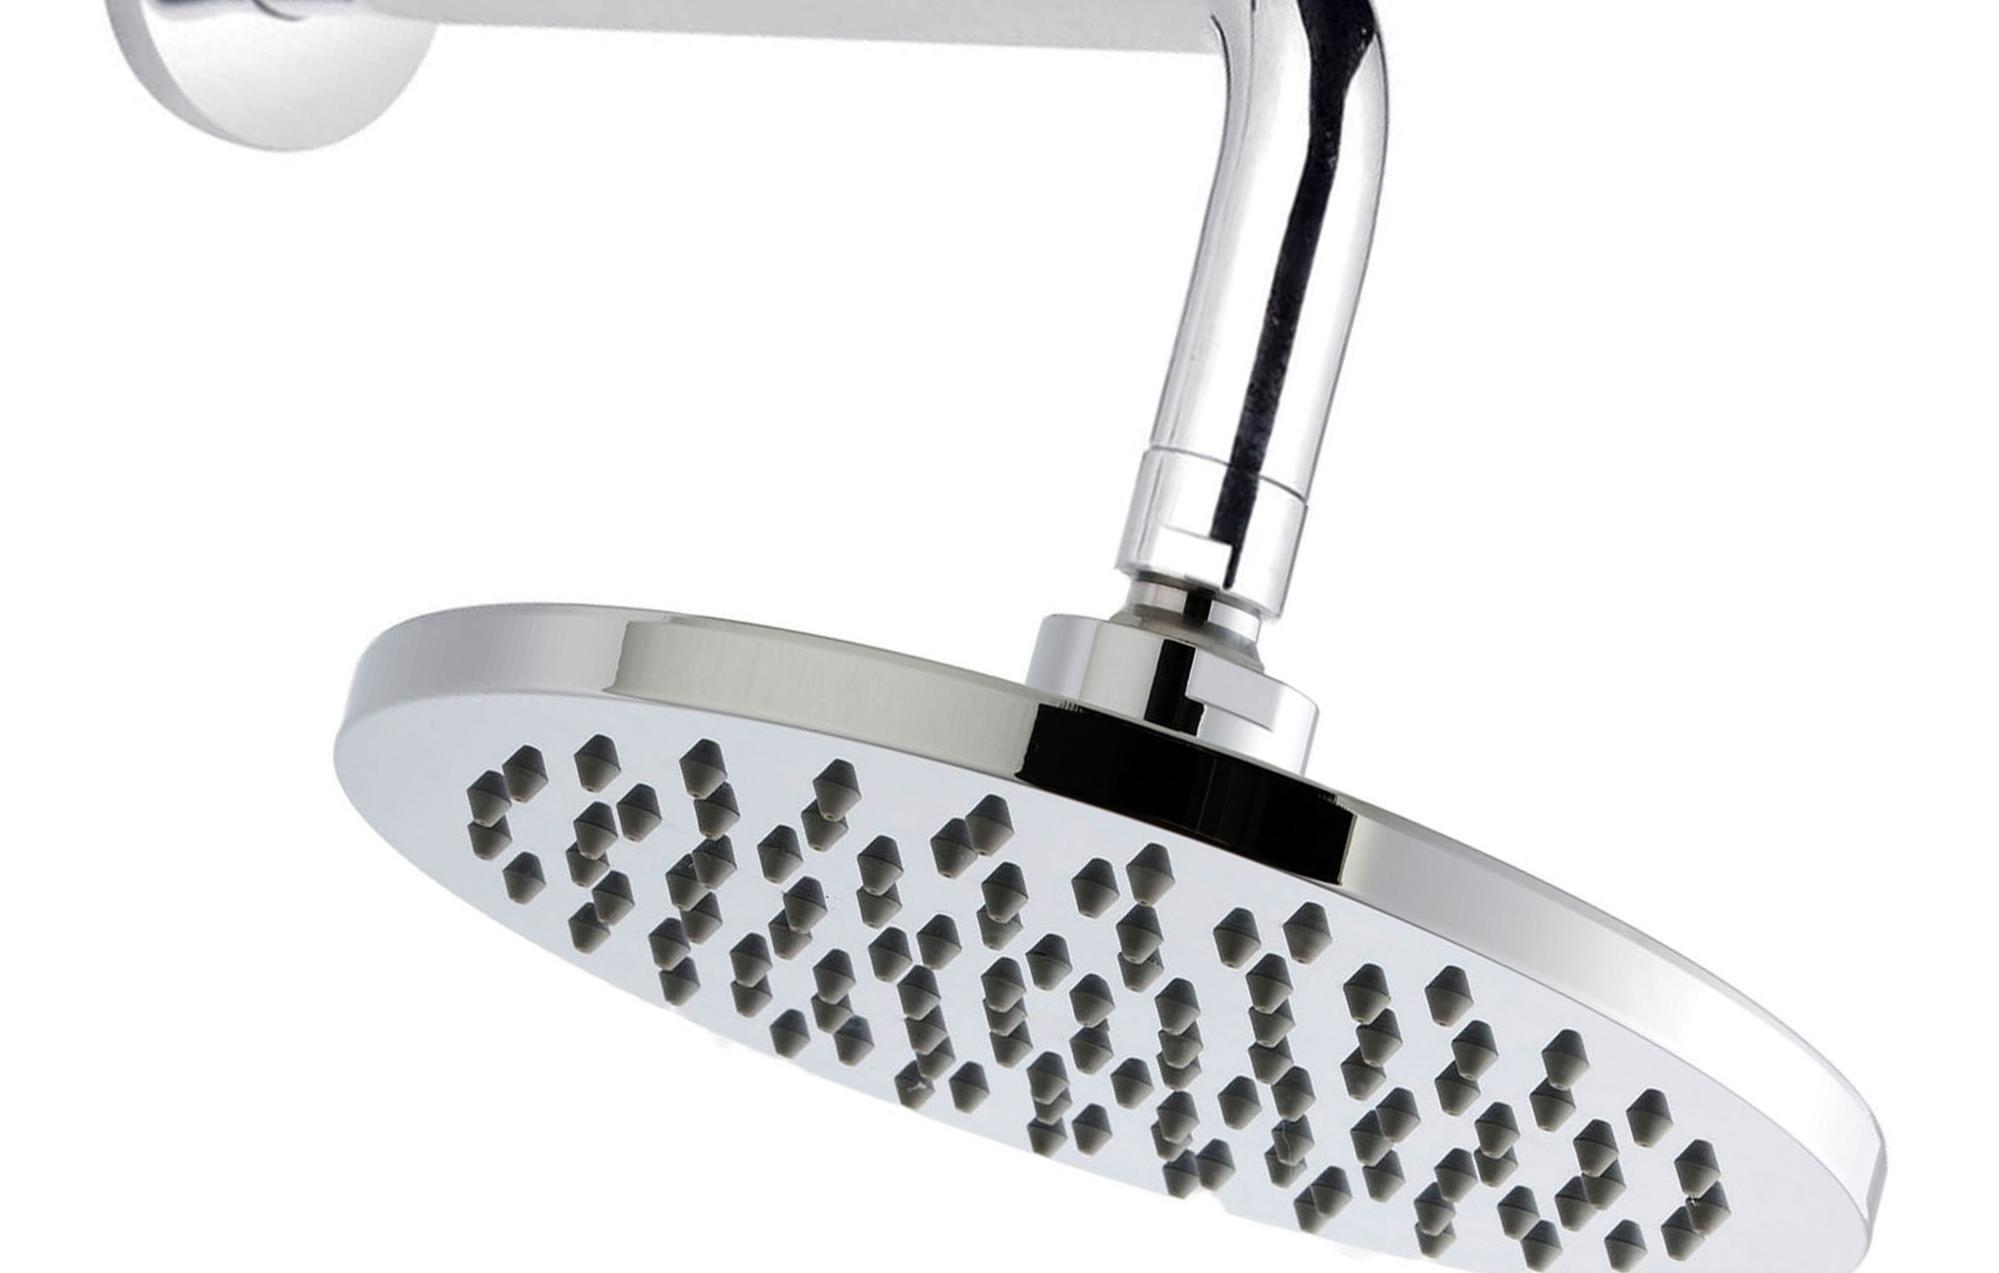Ducha: (0, 0, 1912, 1272)
